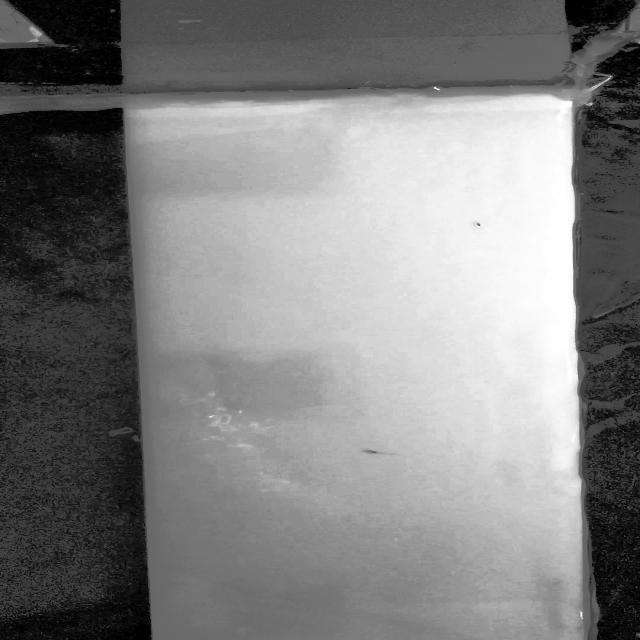shrimp: (457, 213, 500, 239), (350, 444, 396, 466)
